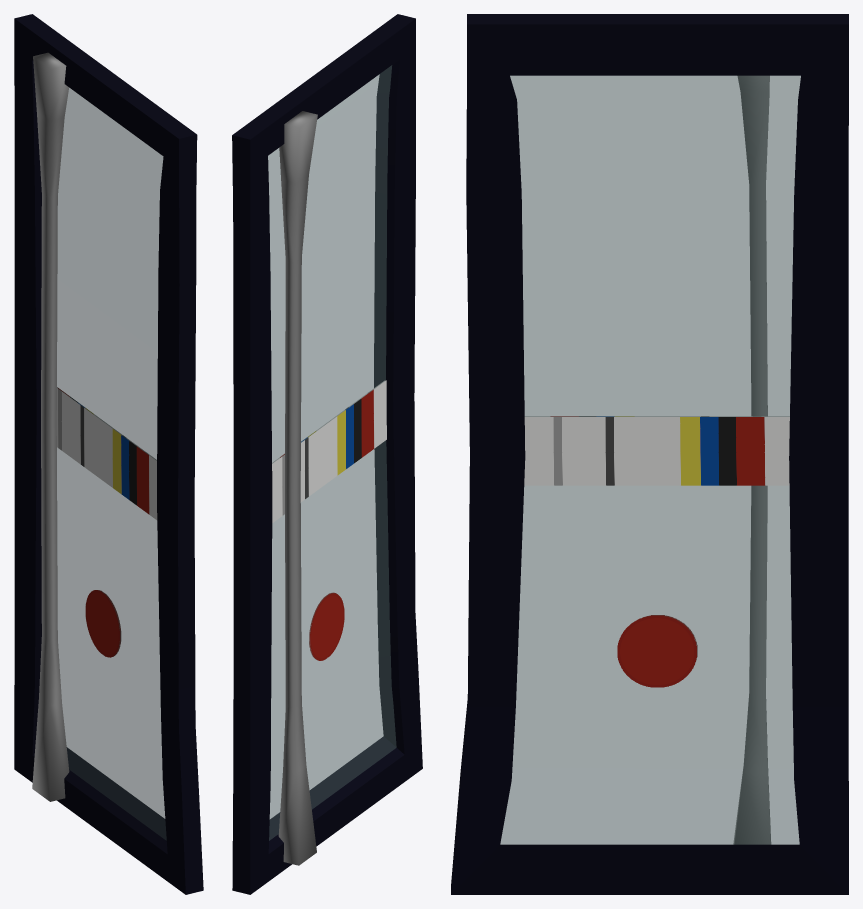
The model's file is Door_Right.FBX.
3 renders of one model, left to right at view 1: azimuth 30°, elevation 25°; view 2: azimuth 150°, elevation 25°; view 3: azimuth 270°, elevation 25°, orthographic. The views are drawn at different scales.
Visible parts, largest first — view 1: Object001; view 2: Object001; view 3: Object001.
Part boxes in pixels (left/top/right/bottom): Object001: left=14, top=14, right=203, bottom=894; Object001: left=232, top=14, right=422, bottom=894; Object001: left=451, top=14, right=848, bottom=894.
Size of the model in its own units: 11.83 by 254 by 105.
4 materials, 1 textured.
